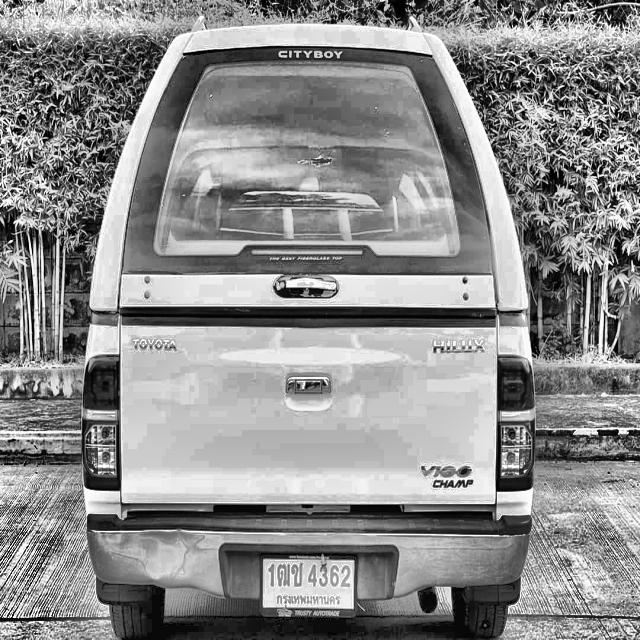license-plate: (259, 553, 359, 619)
